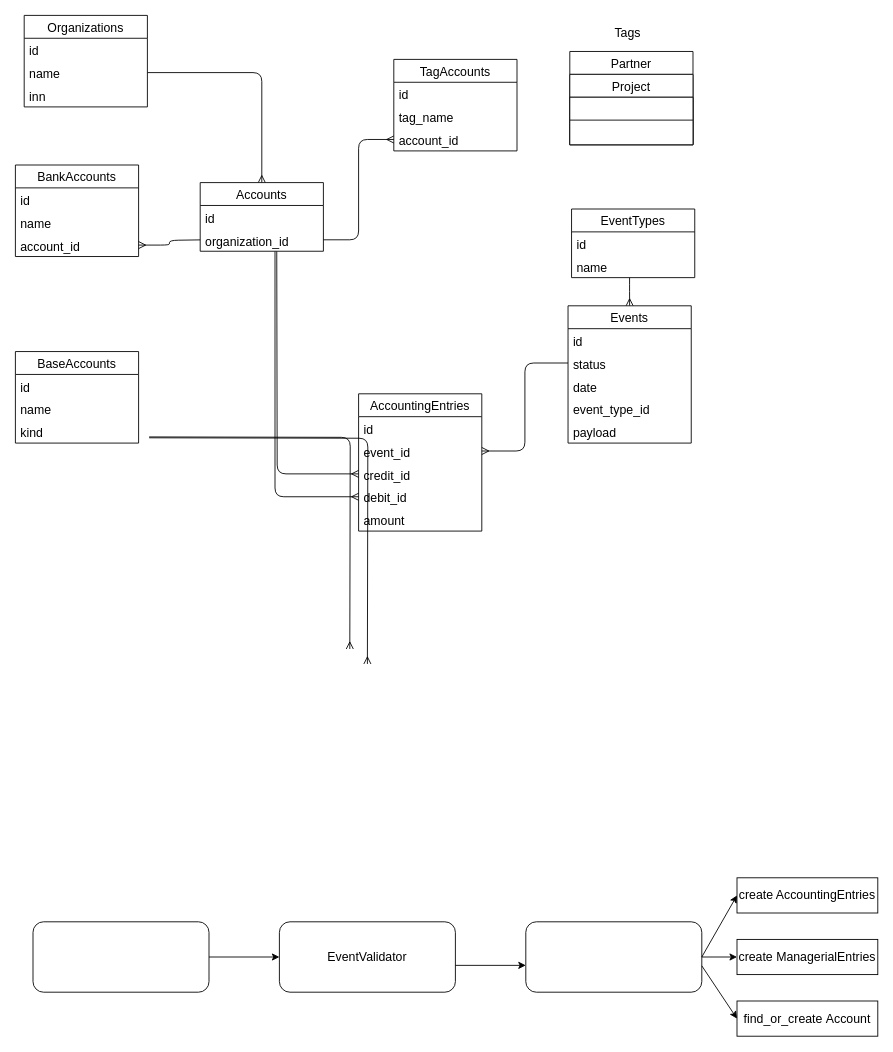
The diagram is 893 pixels wide and 1052 high, and some of its shapes have lost their labels. The centre of each missing label's shape, as x and y in pixels:
Agreement: [631,120]
EventProcessor (mapping EventType - Accounts): [613,956]
EventsController#create: [120,956]
